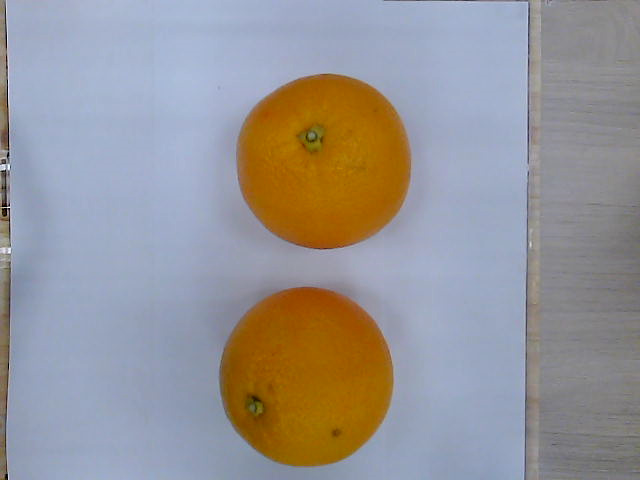fresh_orange: (219, 286, 395, 467), (237, 73, 414, 250)
